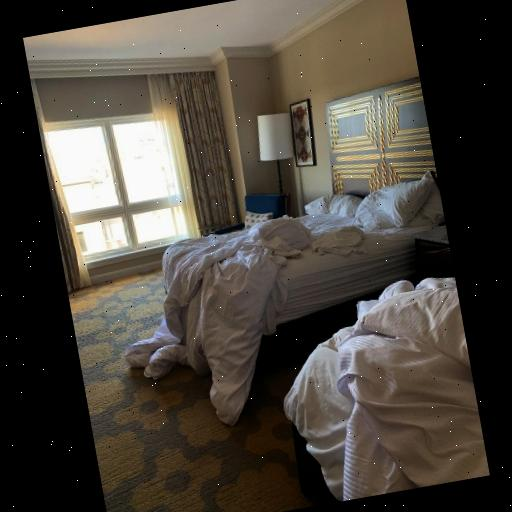lamp: (238, 102, 310, 206)
messy_bed: (121, 81, 441, 420), (285, 277, 488, 499)
